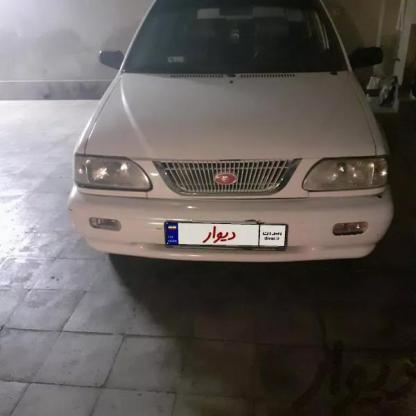Car: (52, 0, 416, 288)
